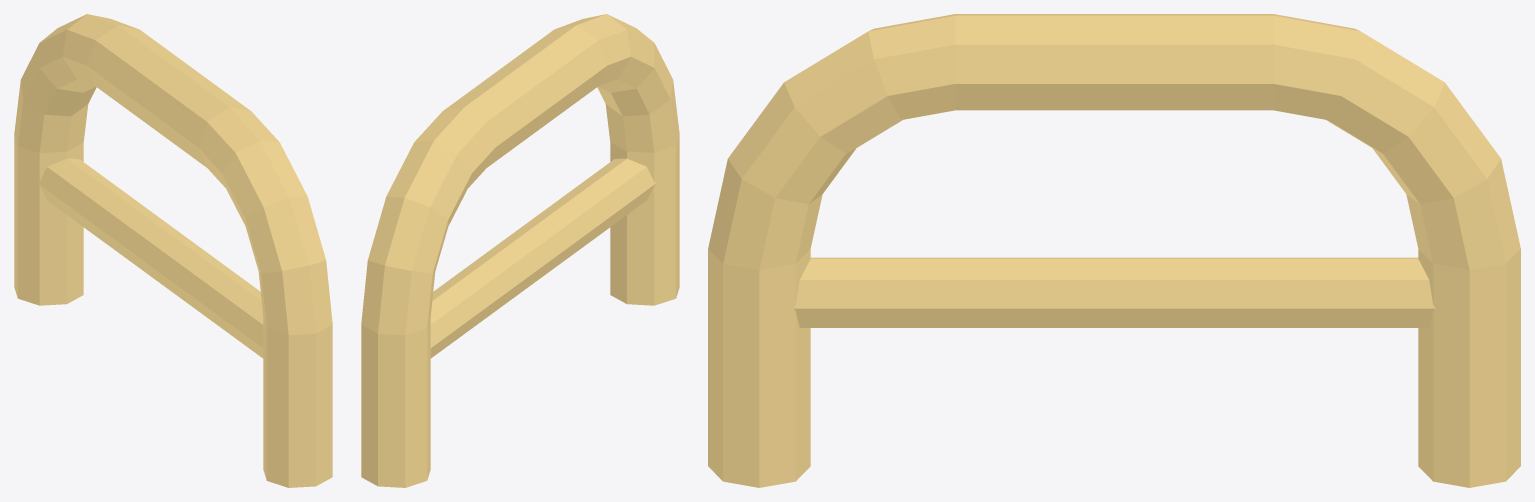
File: rail.glb
The picture shows the model from 3 angles, left to right: view 1: azimuth 30°, elevation 25°; view 2: azimuth 150°, elevation 25°; view 3: azimuth 270°, elevation 25°; orthographic projection. The views are drawn at different scales.
Visible parts, largest first — view 1: rail-a; view 2: rail-a; view 3: rail-a.
Part boxes in pixels (x1,y1,x2,y2): rail-a: [14, 14, 332, 487]; rail-a: [361, 14, 679, 487]; rail-a: [708, 14, 1520, 487].
Size of the model in its own units: 0.2288 by 1.11 by 1.81.
Materials: 1 (1 with a texture image).
